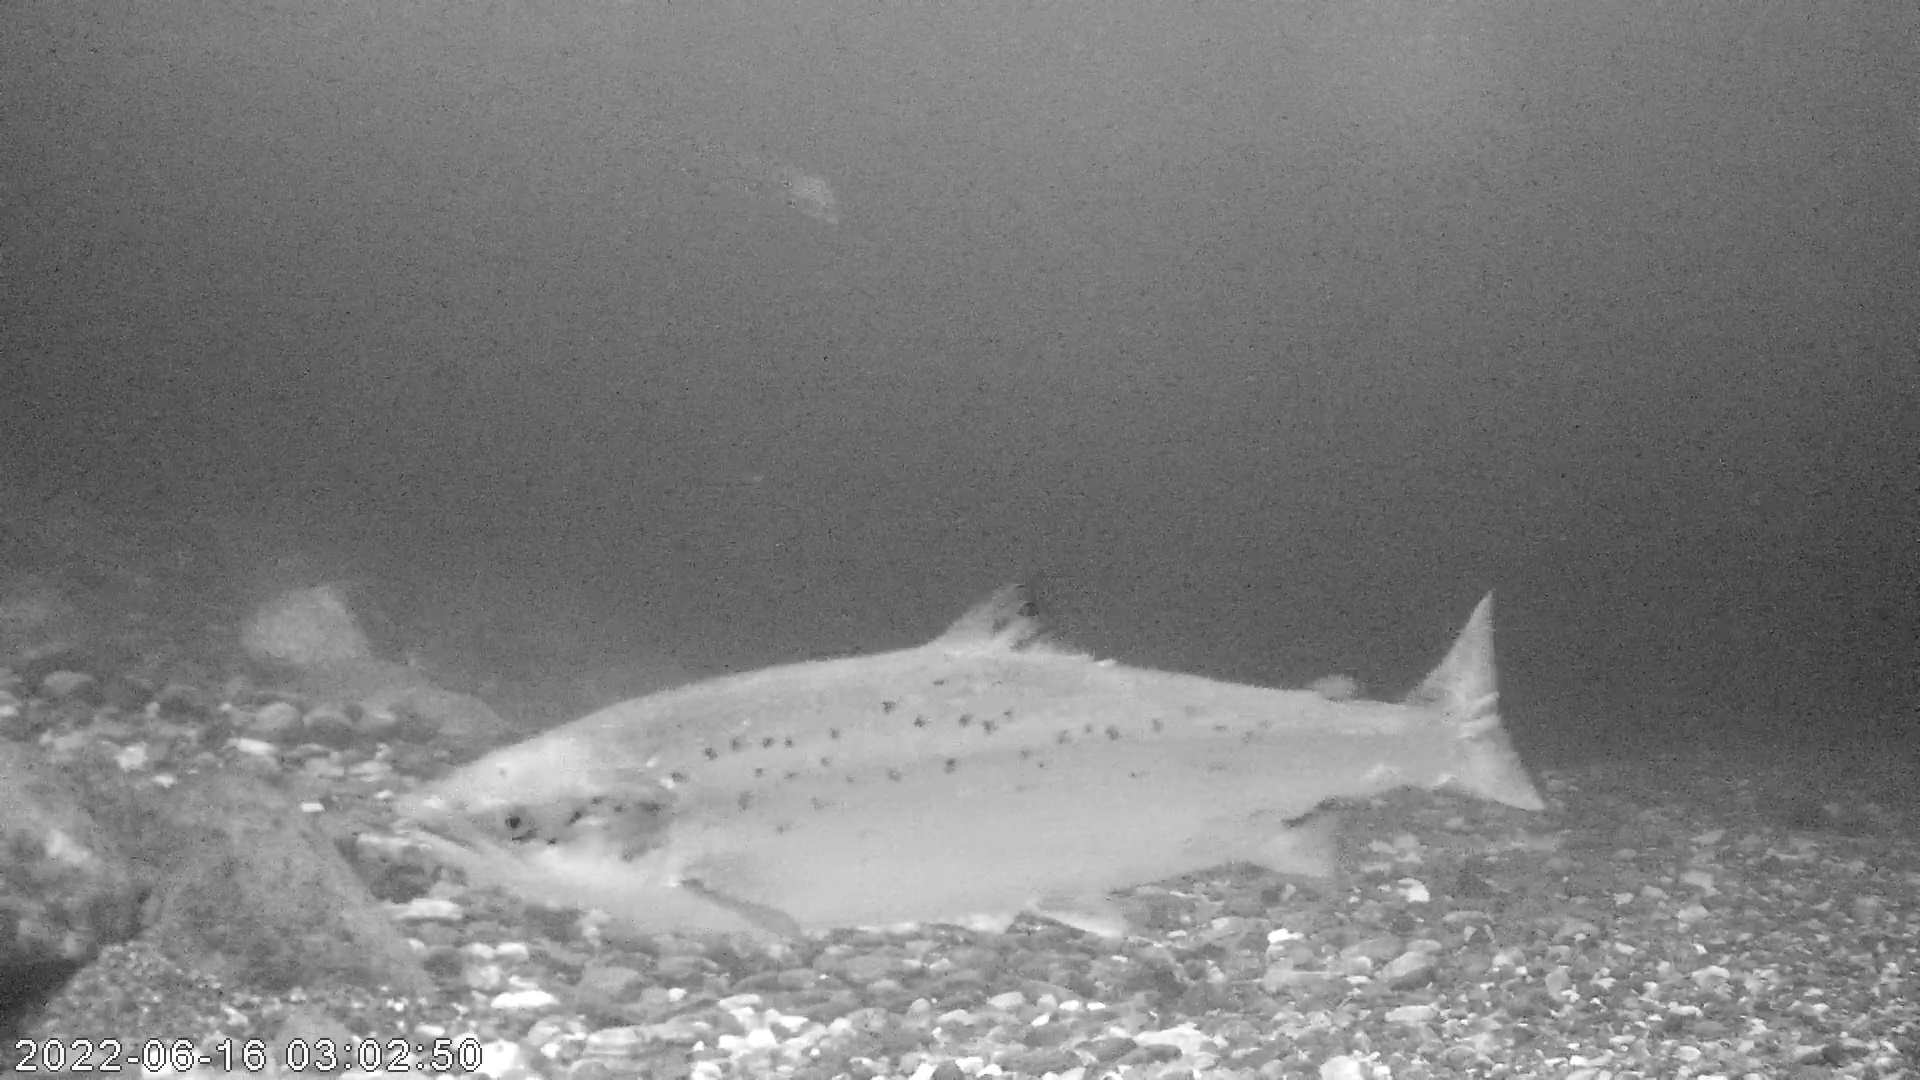salmon: (392, 576, 1548, 943)
